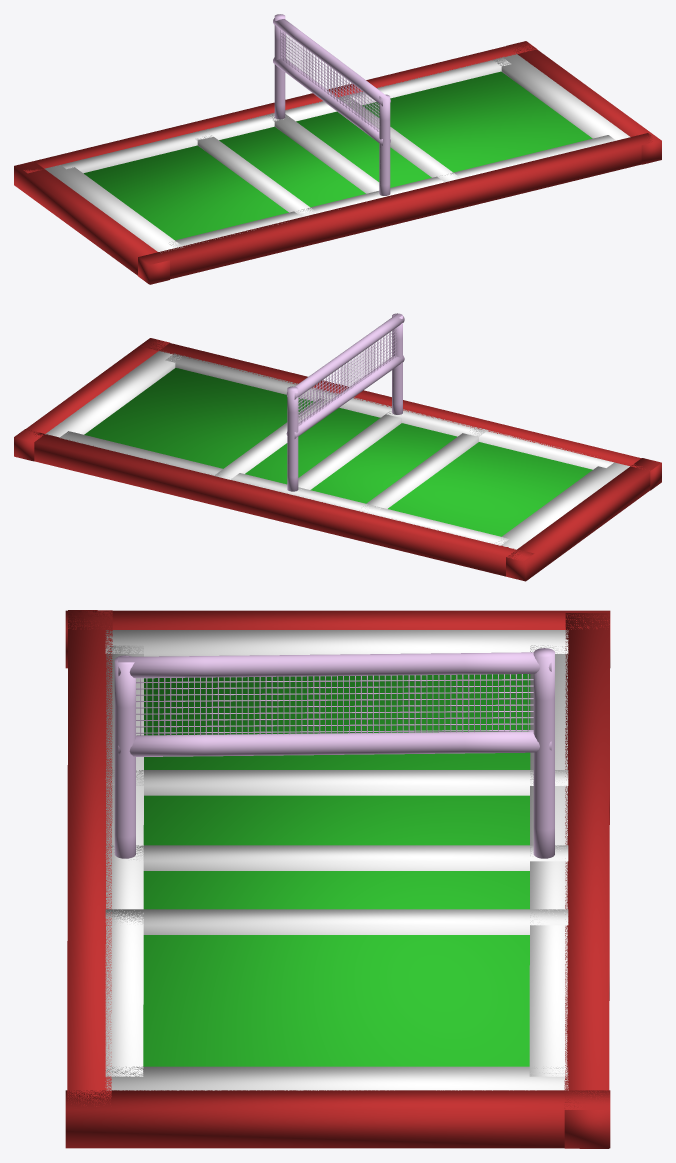
The model's file is lapvolly.fbx.
The picture shows the model from 3 angles, top to bottom: view 1: azimuth 30°, elevation 25°; view 2: azimuth 150°, elevation 25°; view 3: azimuth 270°, elevation 25°; orthographic projection. The views are drawn at different scales.
Parts seen in each view (by area): view 1: Box001, Box010, Box004, Box007, Box009, Box011, Box012, Box008, Box002, Box014, Box006, Box013 (+4 smaller); view 2: Box001, Box009, Box011, Box007, Box010, Box004, Box012, Box008, Box002, Box014, Box006, Box013 (+4 smaller); view 3: Box001, Box008, Box009, Box010, Box011, Box002, Box013, Box012, Box004, Box006, Box014, Box007 (+4 smaller).
Part boxes in pixels (left/top/right/bottom): Box001: left=83, top=71, right=592, bottom=240; Box010: left=138, top=133, right=652, bottom=284; Box004: left=61, top=57, right=510, bottom=173; Box007: left=14, top=161, right=169, bottom=284; Box009: left=23, top=41, right=537, bottom=173; Box011: left=169, top=135, right=615, bottom=247; Box012: left=493, top=53, right=630, bottom=140; Box008: left=506, top=41, right=661, bottom=164; Box002: left=44, top=165, right=182, bottom=252; Box014: left=196, top=135, right=315, bottom=216; Box006: left=266, top=113, right=391, bottom=195; Box013: left=338, top=95, right=460, bottom=182; Box001: left=84, top=368, right=592, bottom=536; Box009: left=14, top=429, right=534, bottom=576; Box011: left=165, top=353, right=613, bottom=469; Box007: left=506, top=458, right=661, bottom=581; Box010: left=141, top=339, right=661, bottom=490; Box004: left=59, top=431, right=509, bottom=545; Box012: left=45, top=351, right=181, bottom=437; Box008: left=14, top=338, right=169, bottom=461; Box002: left=496, top=462, right=629, bottom=549; Box014: left=363, top=428, right=487, bottom=513; Box006: left=298, top=409, right=410, bottom=489; Box013: left=214, top=392, right=333, bottom=479; Box001: left=143, top=674, right=530, bottom=1066; Box008: left=65, top=1090, right=610, bottom=1148; Box009: left=564, top=613, right=609, bottom=1148; Box010: left=67, top=610, right=112, bottom=1106; Box011: left=105, top=645, right=143, bottom=1076; Box002: left=105, top=630, right=568, bottom=656; Box013: left=105, top=909, right=568, bottom=934; Box012: left=105, top=1066, right=568, bottom=1090; Box004: left=529, top=645, right=568, bottom=1076; Box006: left=105, top=845, right=568, bottom=870; Box014: left=105, top=770, right=568, bottom=795; Box007: left=65, top=610, right=610, bottom=668.
Bounding box in the file's own units: 16721 × 3736 × 7692.
